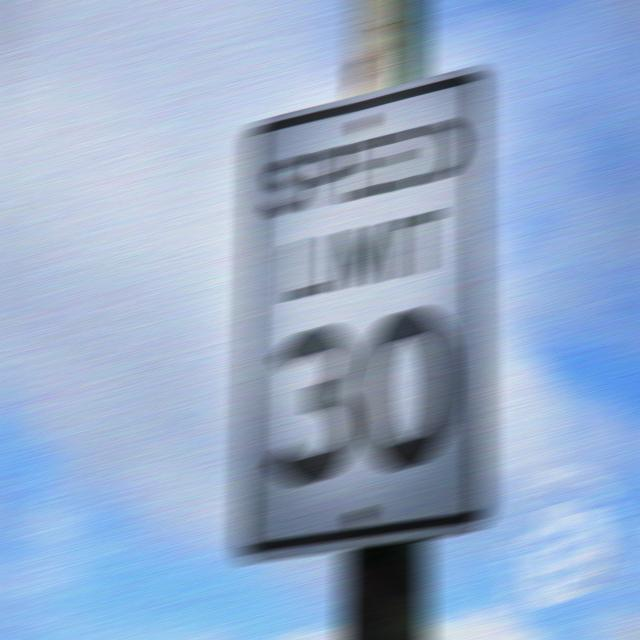speedLimit30: (226, 118, 499, 540)
